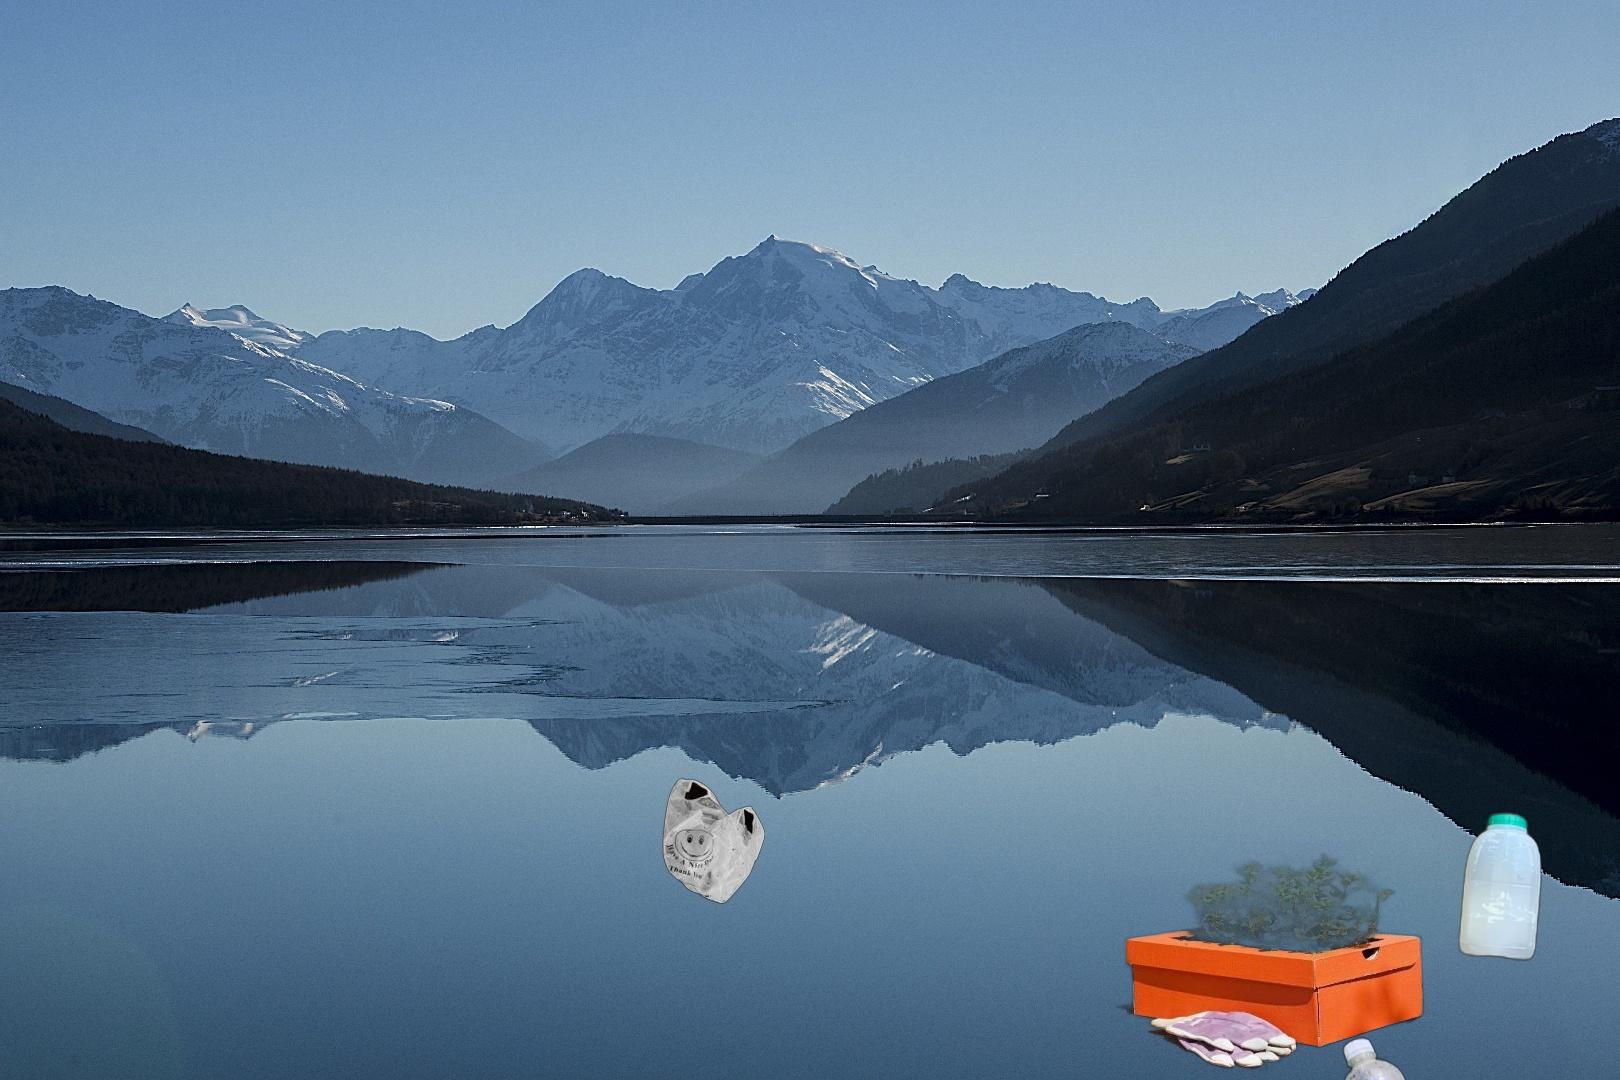plastic-bag: (661, 775, 767, 906)
plastic-bottles: (1455, 806, 1546, 965), (1337, 1032, 1620, 1080)
trashbox-cardboard: (1107, 841, 1456, 1073)
